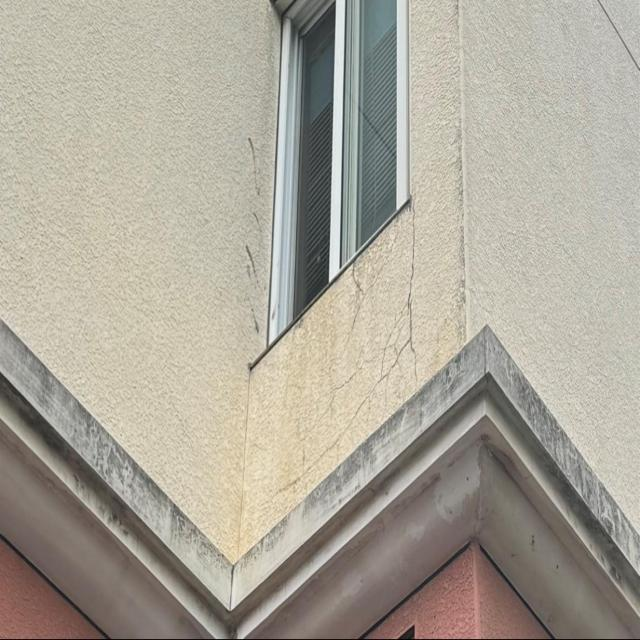crack: (261, 177, 423, 511)
mildew: (1, 323, 639, 607), (438, 108, 467, 367)
